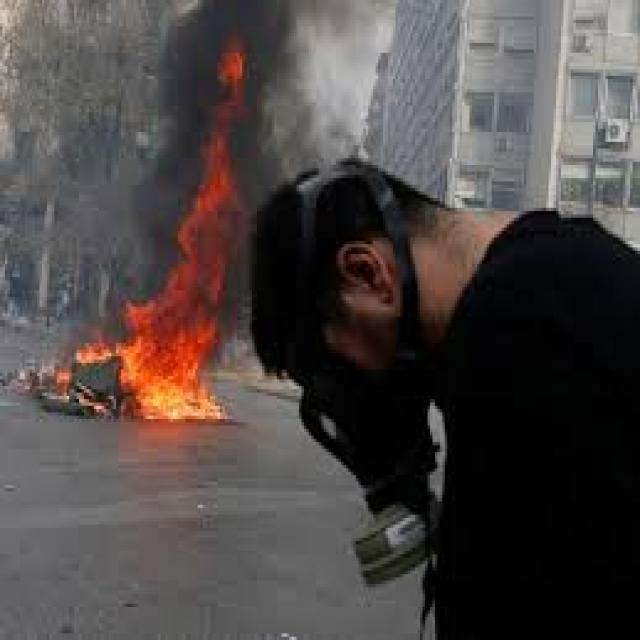Fire: (81, 306, 227, 422), (166, 183, 241, 304), (206, 42, 242, 180), (52, 366, 74, 396)
Smoke: (245, 0, 363, 162), (152, 0, 208, 182), (95, 163, 167, 304), (208, 0, 295, 42)
